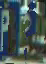Parking: (1, 1, 40, 63)
